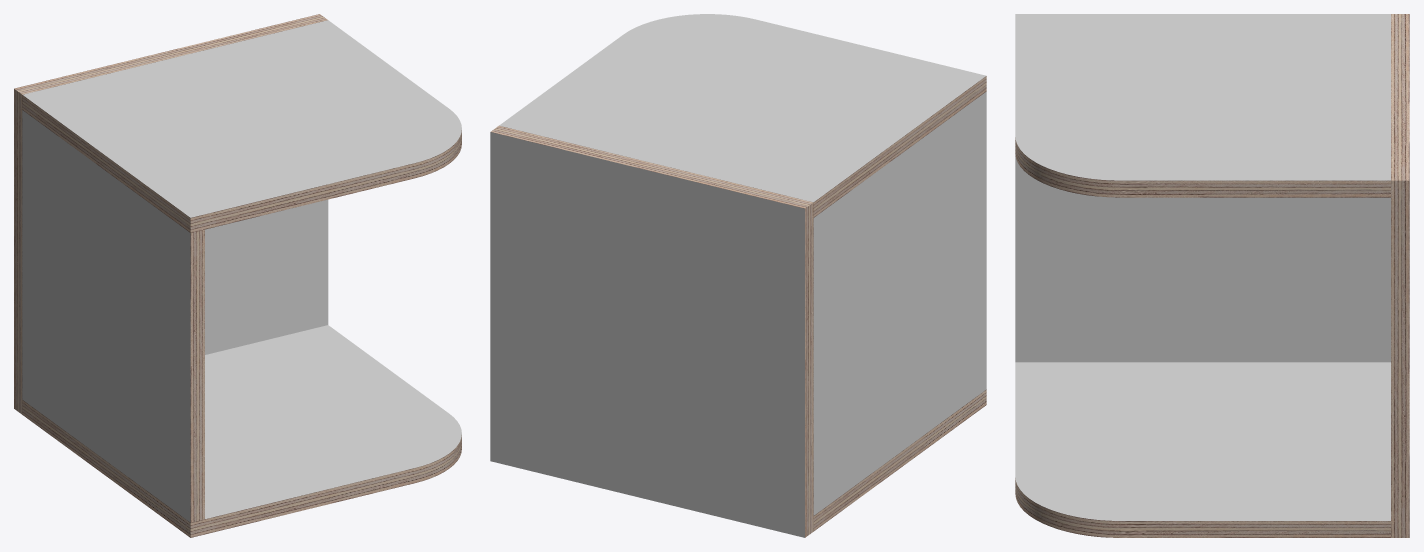
File: Left Open Shelf.fbx
3 views of the same model, side by side, from view 1: azimuth 30°, elevation 25°; view 2: azimuth 150°, elevation 25°; view 3: azimuth 270°, elevation 25° (orthographic). The views are drawn at different scales.
Visible parts, largest first — view 1: Left Open Shelf TL, Left Open Shelf BL, Left Open Shelf BR, Left Open Shelf TR, Left Open Shelf T, Left Open Shelf B, Left Open Shelf R, Left Open Shelf L, Left Open Shelf C; view 2: Left Open Shelf TR, Left Open Shelf BR, Left Open Shelf R, Left Open Shelf T, Left Open Shelf TL, Left Open Shelf C, Left Open Shelf L, Left Open Shelf B, Left Open Shelf BL; view 3: Left Open Shelf B, Left Open Shelf BL, Left Open Shelf BR, Left Open Shelf TR, Left Open Shelf T, Left Open Shelf TL, Left Open Shelf R, Left Open Shelf L, Left Open Shelf C.
Part boxes in pixels (x1,y1,x2,y2): Left Open Shelf TL: [131, 100, 461, 324]; Left Open Shelf BL: [131, 388, 461, 537]; Left Open Shelf BR: [14, 233, 378, 451]; Left Open Shelf TR: [14, 14, 377, 237]; Left Open Shelf T: [73, 57, 437, 280]; Left Open Shelf B: [73, 345, 436, 494]; Left Open Shelf R: [14, 195, 328, 344]; Left Open Shelf L: [131, 282, 204, 431]; Left Open Shelf C: [73, 239, 131, 387]; Left Open Shelf TR: [490, 87, 865, 318]; Left Open Shelf BR: [490, 351, 865, 537]; Left Open Shelf R: [490, 242, 865, 427]; Left Open Shelf T: [551, 43, 925, 273]; Left Open Shelf TL: [612, 14, 986, 229]; Left Open Shelf C: [865, 230, 925, 383]; Left Open Shelf L: [926, 186, 986, 339]; Left Open Shelf B: [865, 340, 925, 492]; Left Open Shelf BL: [926, 295, 986, 448]; Left Open Shelf B: [1146, 260, 1278, 537]; Left Open Shelf BL: [1015, 260, 1146, 537]; Left Open Shelf BR: [1278, 260, 1409, 537]; Left Open Shelf TR: [1278, 14, 1409, 299]; Left Open Shelf T: [1146, 14, 1278, 197]; Left Open Shelf TL: [1015, 14, 1146, 197]; Left Open Shelf R: [1278, 197, 1409, 418]; Left Open Shelf L: [1015, 154, 1146, 259]; Left Open Shelf C: [1146, 197, 1278, 259].
Bounding box in the file's own units: 40 × 40.01 × 40.
